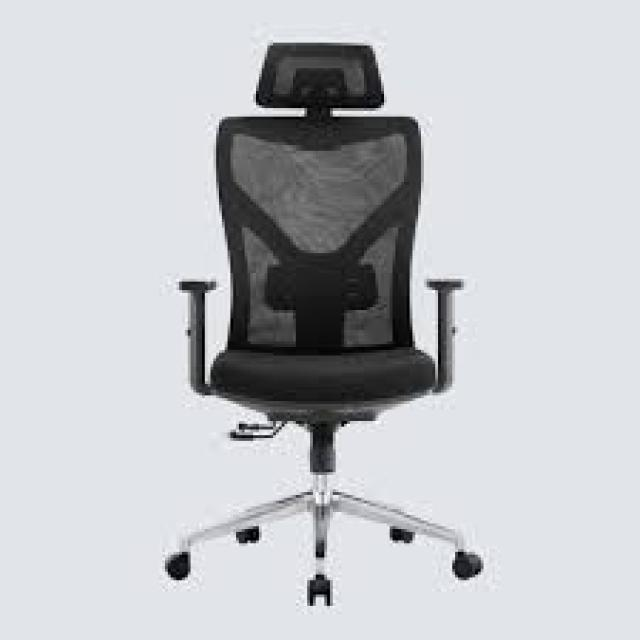chair: (129, 15, 542, 640)
